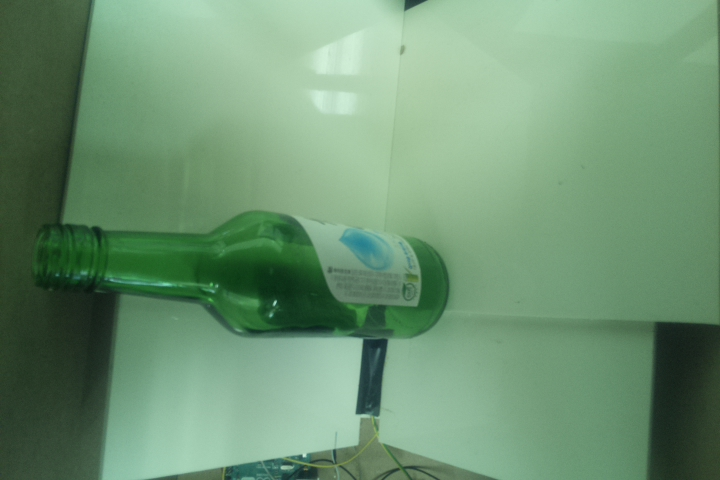soju: (33, 207, 450, 341)
